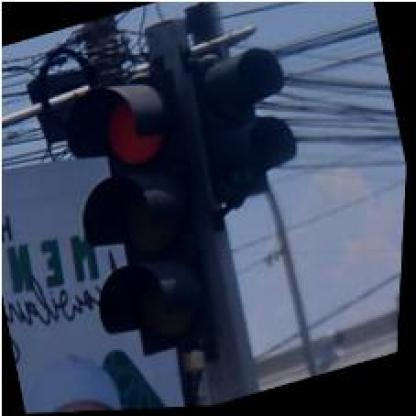red: (46, 65, 236, 367)
